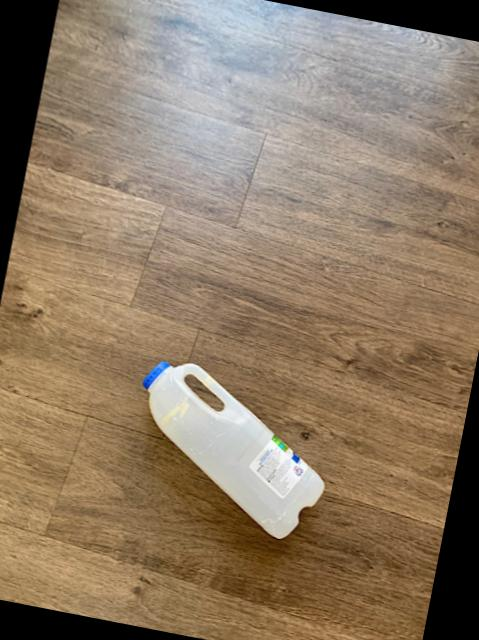plastic: (141, 358, 321, 535)
